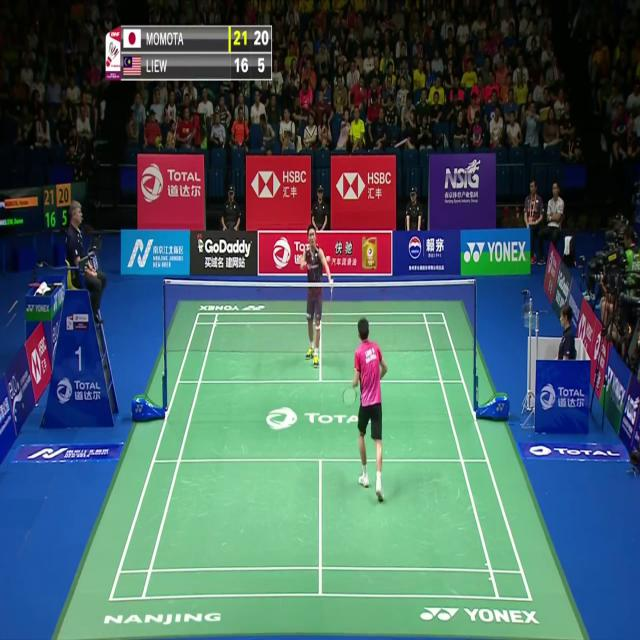Shuttlecock: (325, 250, 331, 262)
